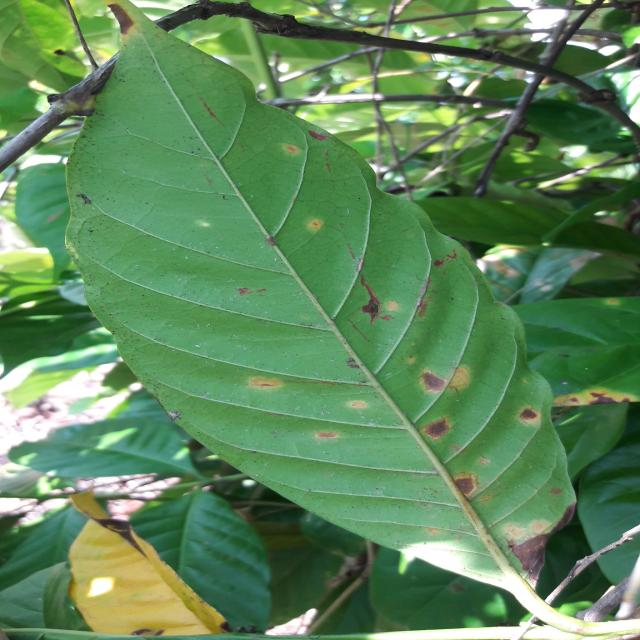Plaga-AranaRoja: (63, 12, 578, 599)
